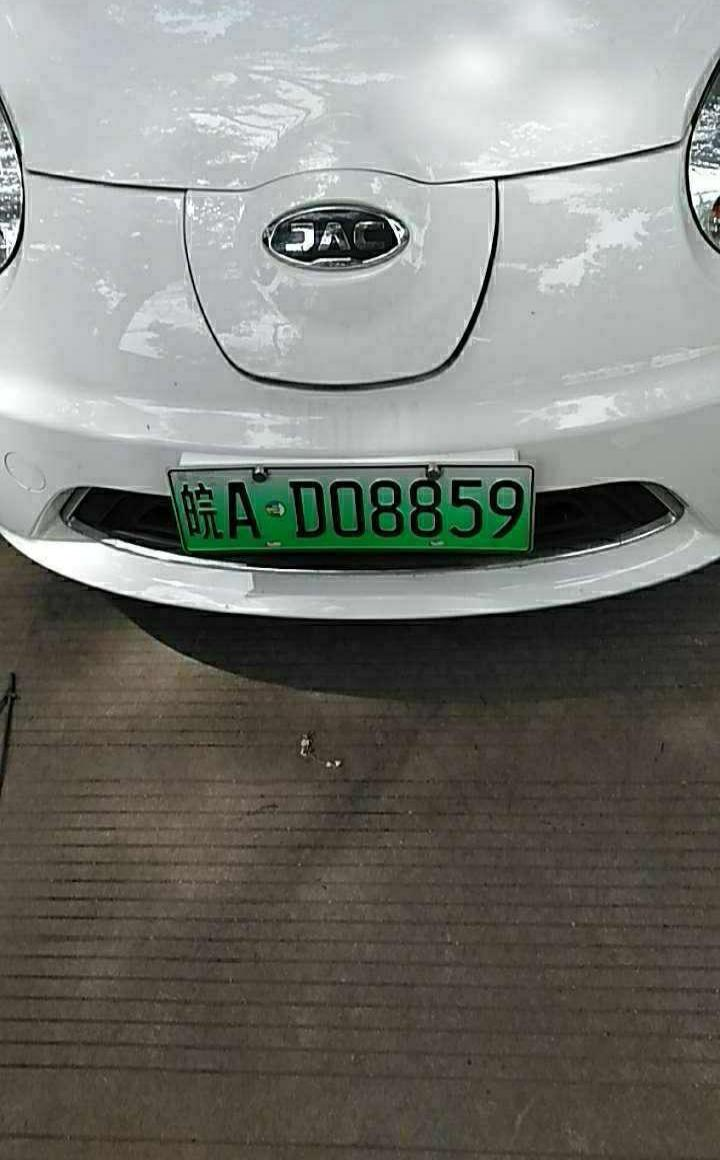car_id: (165, 470, 534, 553)
